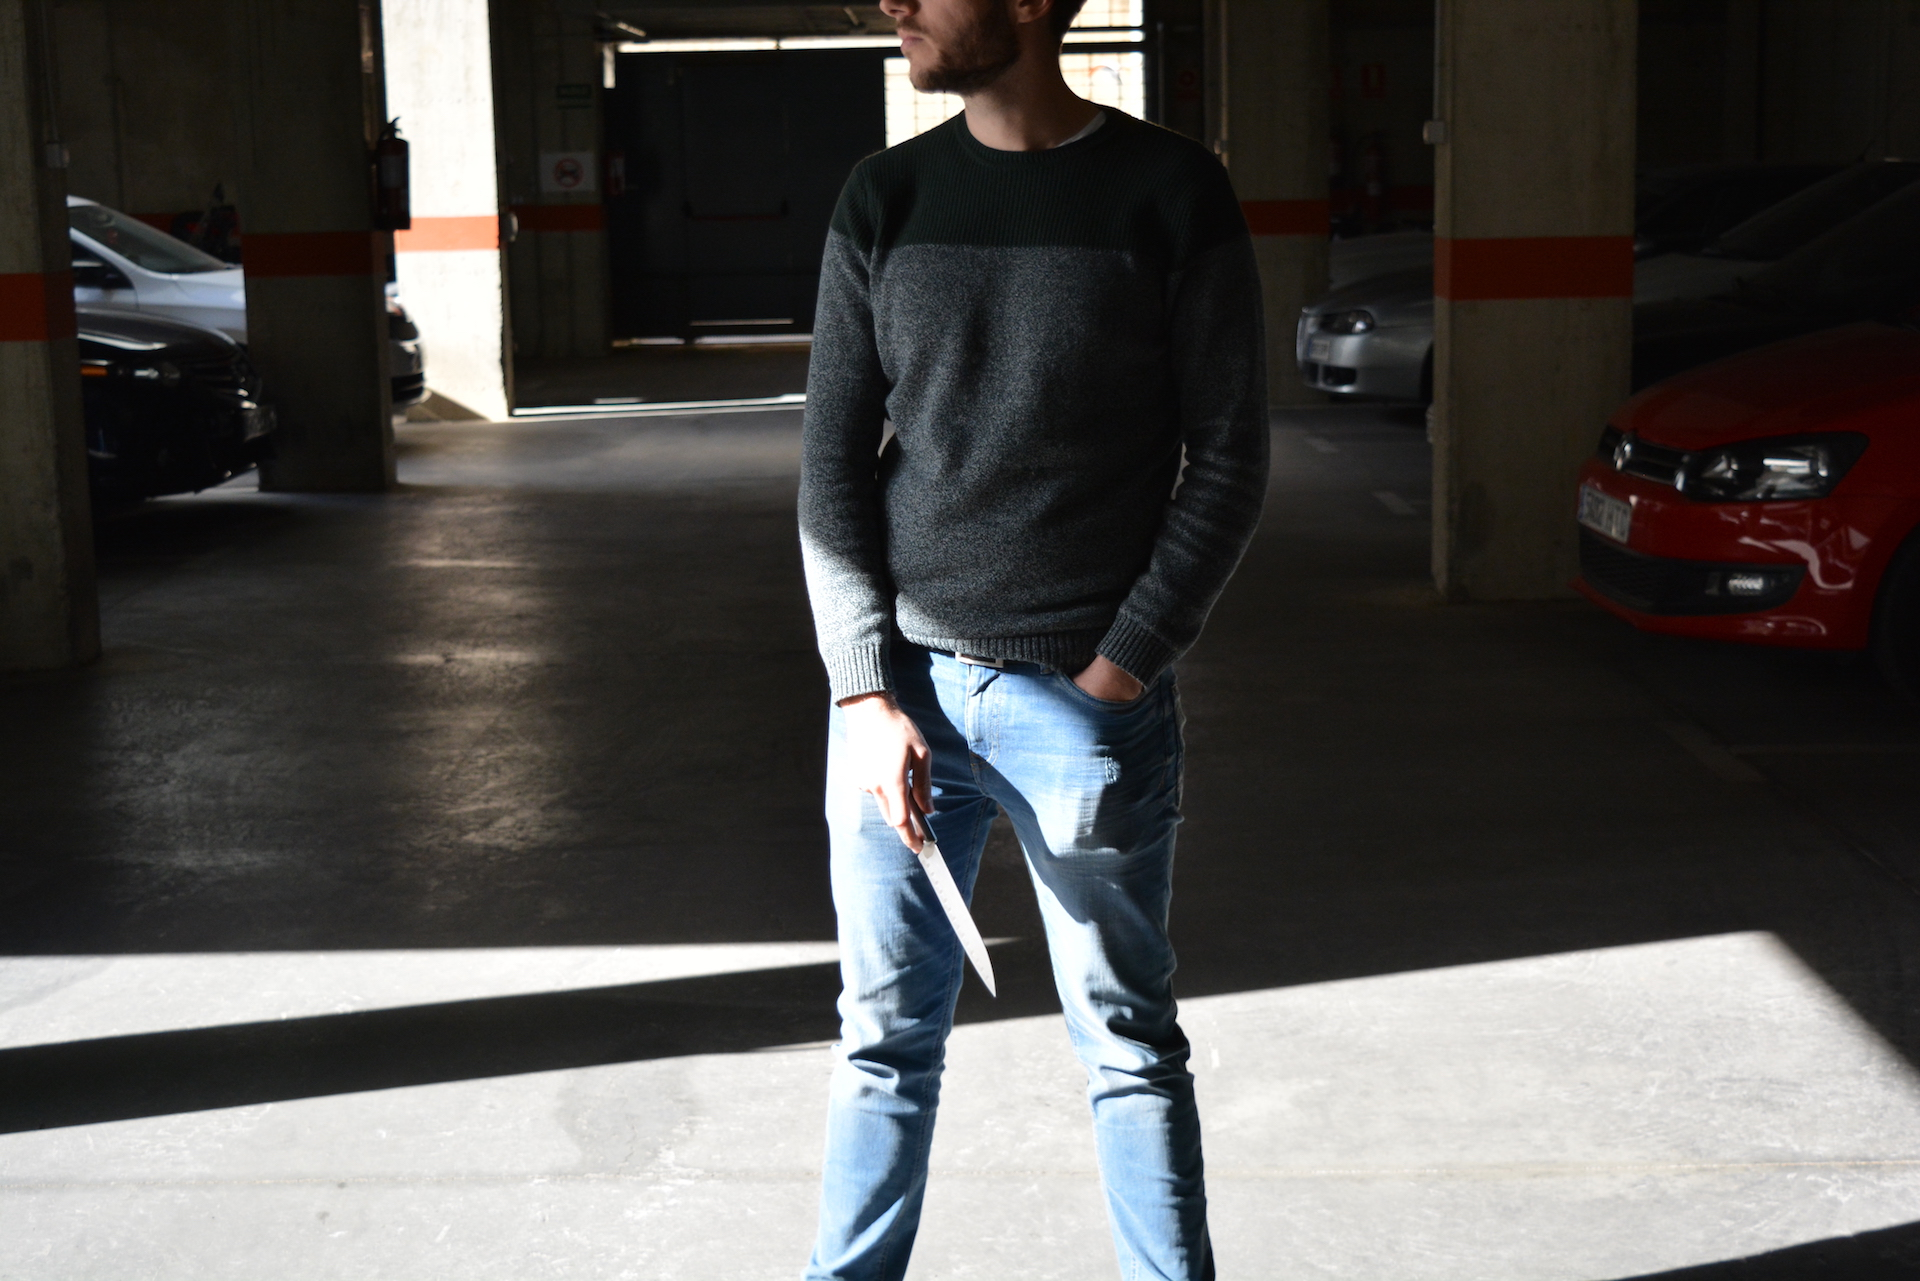knife: (888, 776, 1004, 1009)
